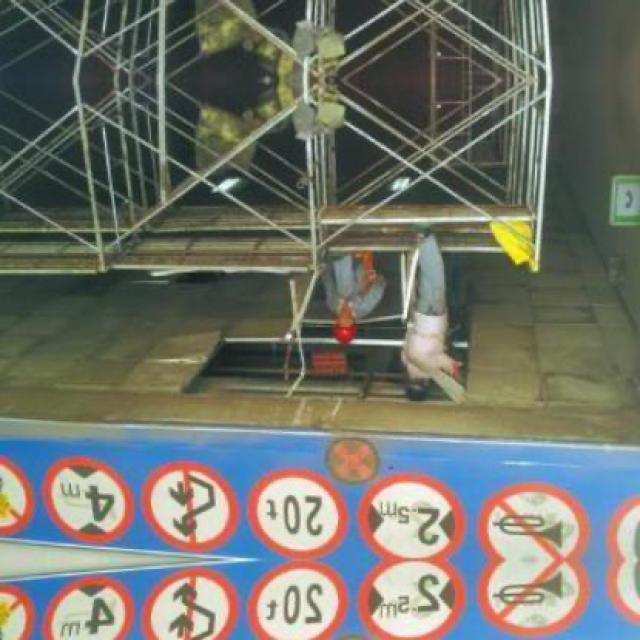con casco: (381, 347, 464, 418), (316, 309, 376, 346)
